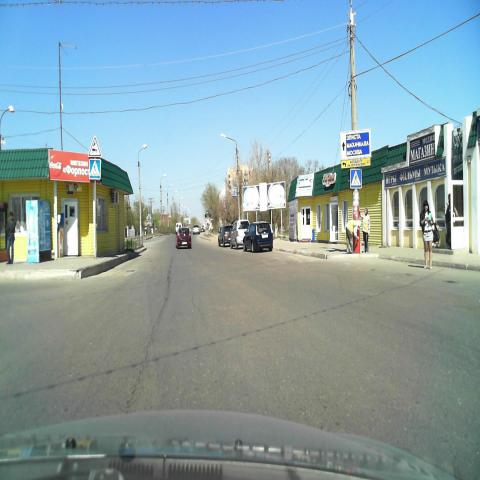1_2: (88, 136, 100, 158)
